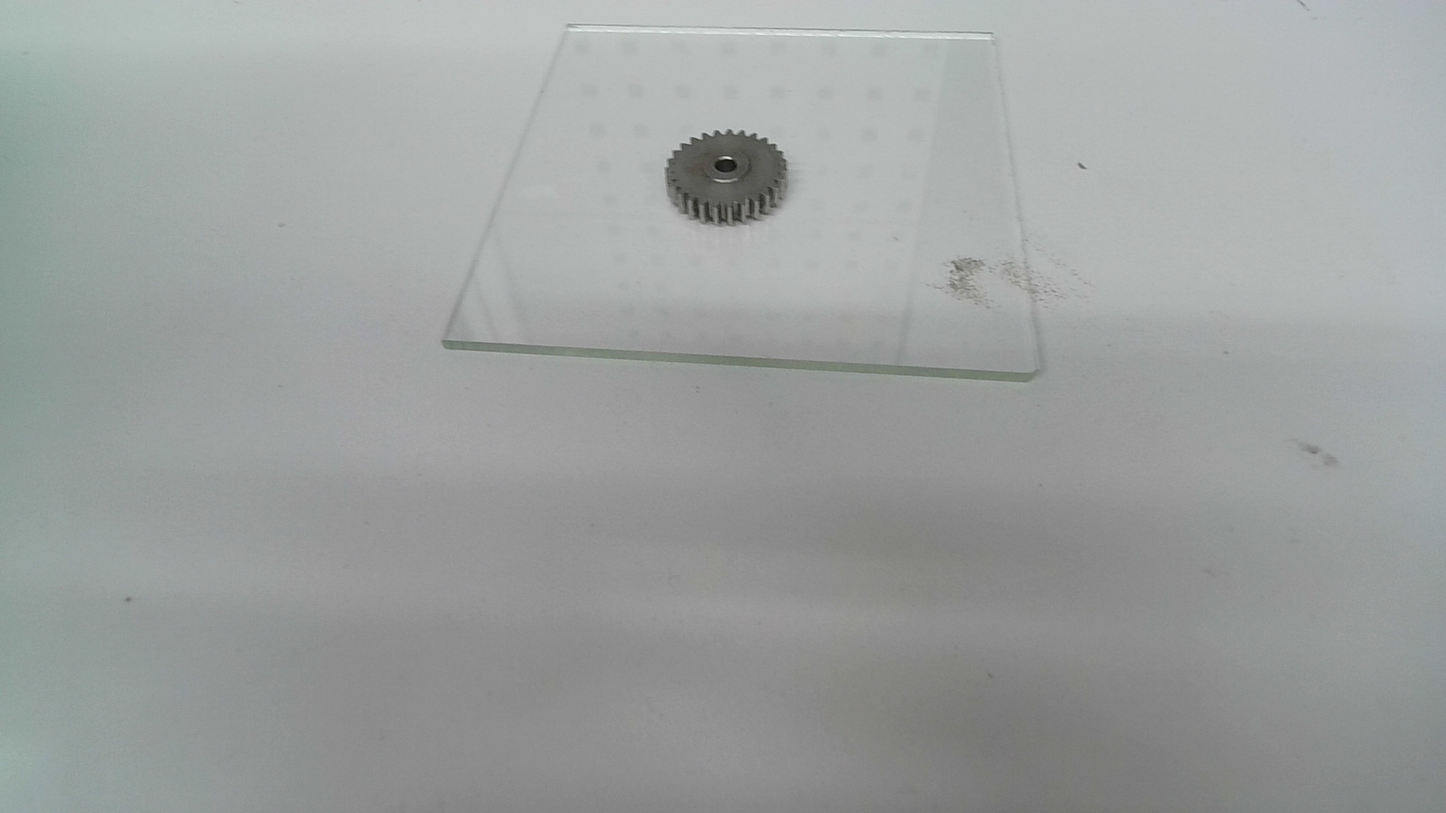gear: (662, 127, 792, 228)
